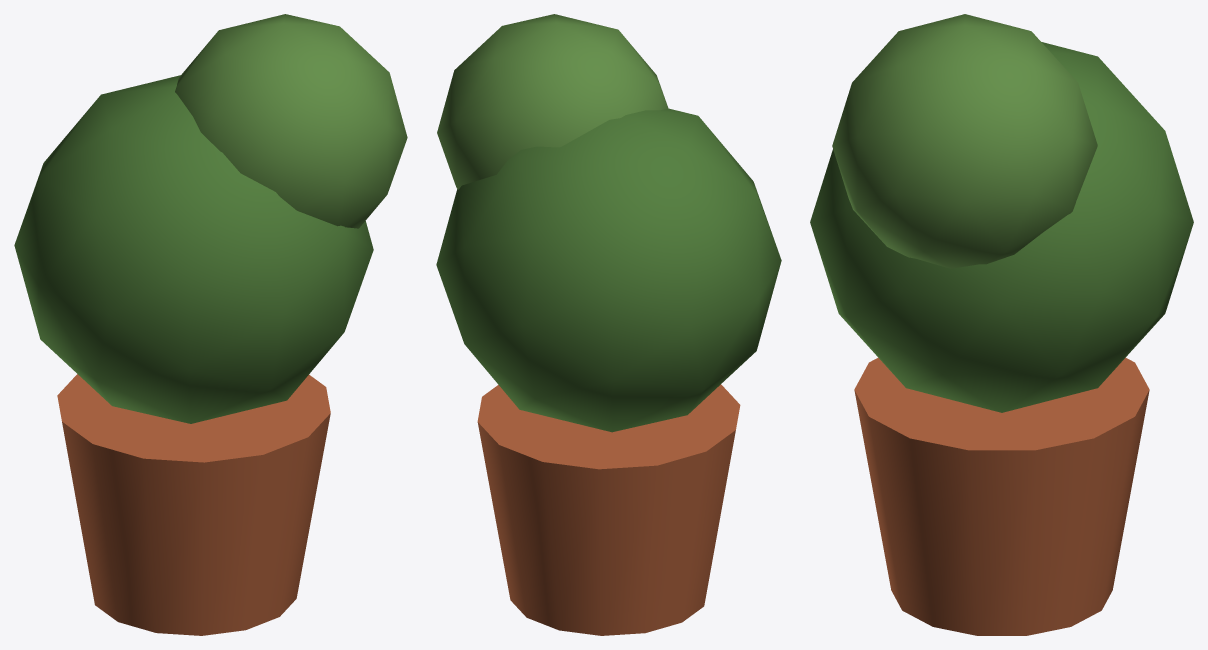
Rendered from plant-pot.glb.
The picture shows the model from 3 angles, left to right: view 1: azimuth 30°, elevation 25°; view 2: azimuth 150°, elevation 25°; view 3: azimuth 270°, elevation 25°; orthographic projection. The views are drawn at different scales.
Parts seen in each view (by area): view 1: plant-pot; view 2: plant-pot; view 3: plant-pot.
Part boxes in pixels (left/top/right/bottom): plant-pot: left=14, top=14, right=407, bottom=635; plant-pot: left=436, top=14, right=781, bottom=635; plant-pot: left=810, top=14, right=1193, bottom=635.
Size of the model in its own units: 0.56 by 0.9 by 0.52.
